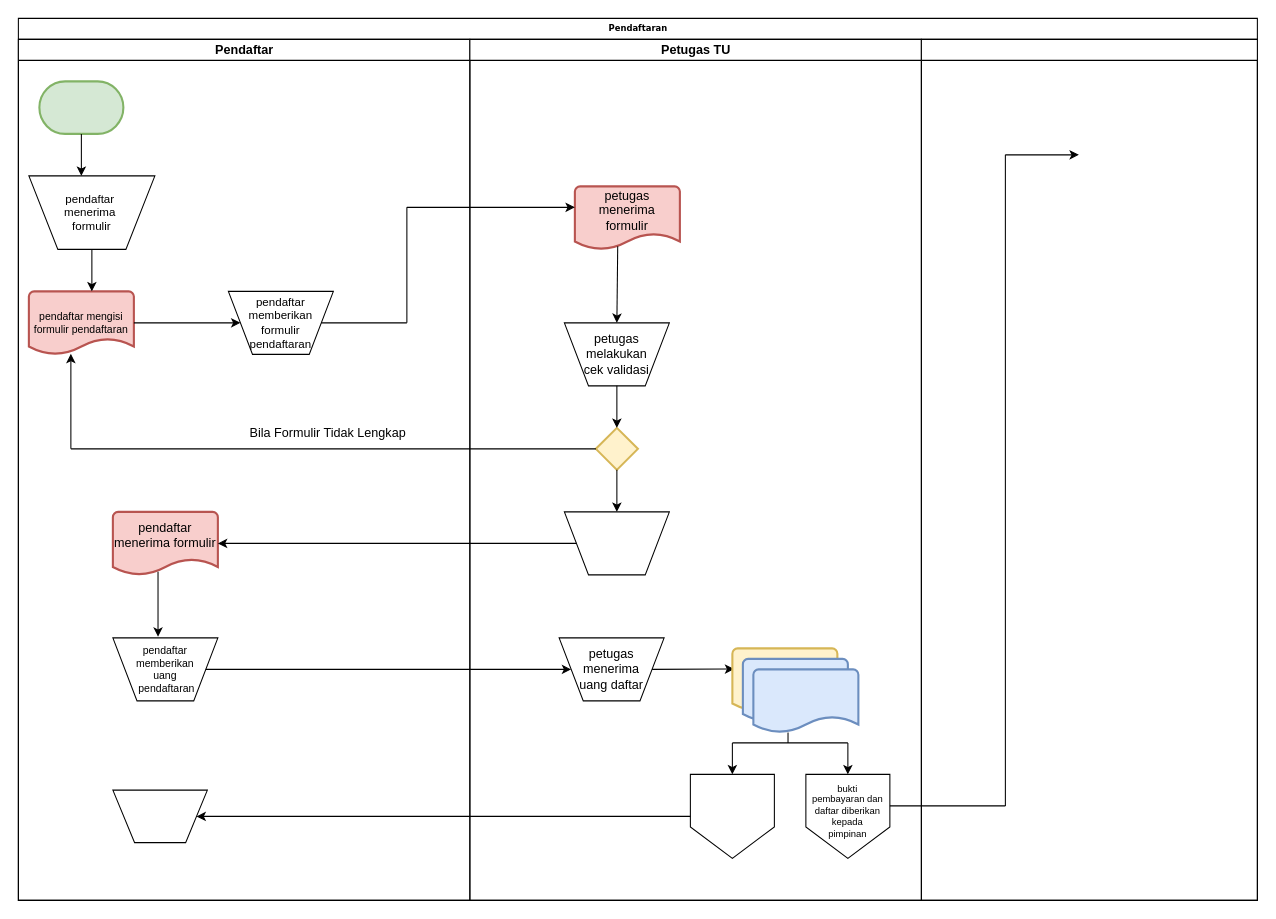
Image size: 1276x919. Some labels were removed from this diagram. The shapes that lost their labels are listed below. From the top down, each one's centre as x and y in pixels, then its label:
the point at 81,107: start
the point at 1088,469: Pimpinan TU
the point at 616,543: membuat surat keterangan terima formulir
the point at 805,700: petugas membuat laporan rangkap 2
the point at 159,816: pendaftar menerima bukti pembayaran
the point at 731,815: bukti pembayaran diberikan kepada pendaftar
